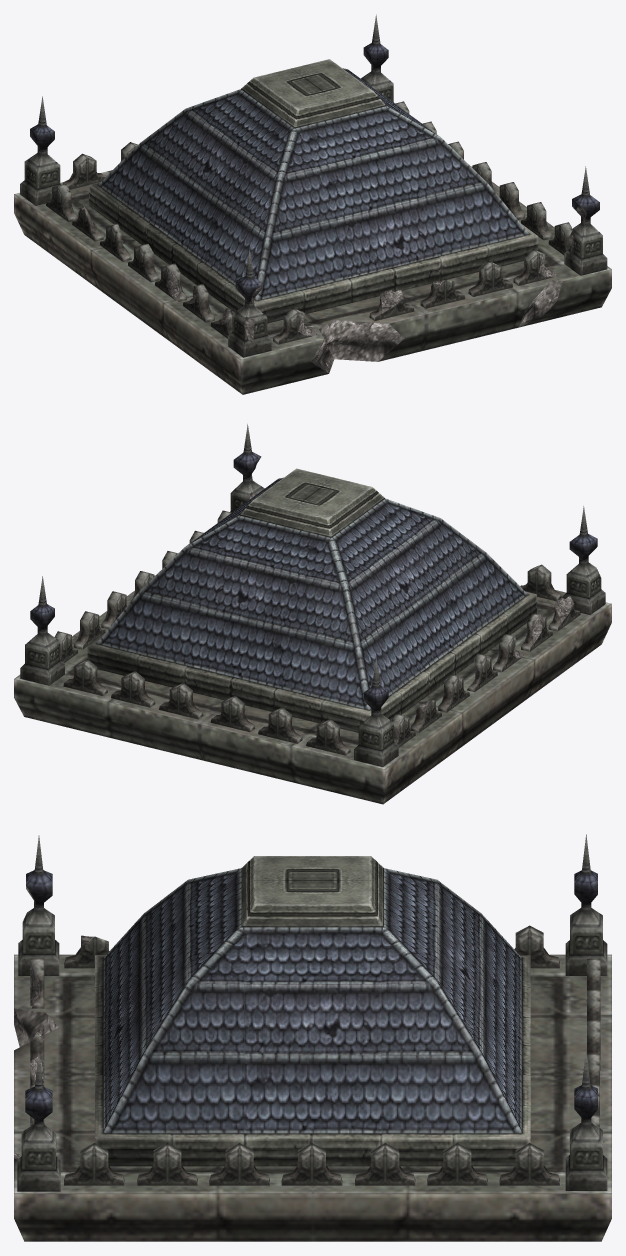
3 views of the same model, one above another, from view 1: azimuth 30°, elevation 25°; view 2: azimuth 150°, elevation 25°; view 3: azimuth 270°, elevation 25° (orthographic). The views are drawn at different scales.
Parts seen in each view (by area): view 1: object103; view 2: object103; view 3: object103.
Part boxes in pixels (x1,y1,x2,y2): object103: (14, 14, 611, 394); object103: (14, 424, 611, 804); object103: (14, 834, 611, 1241).
Bounding box in the file's own units: 291 × 140 × 307.
2 materials, 2 textured.
